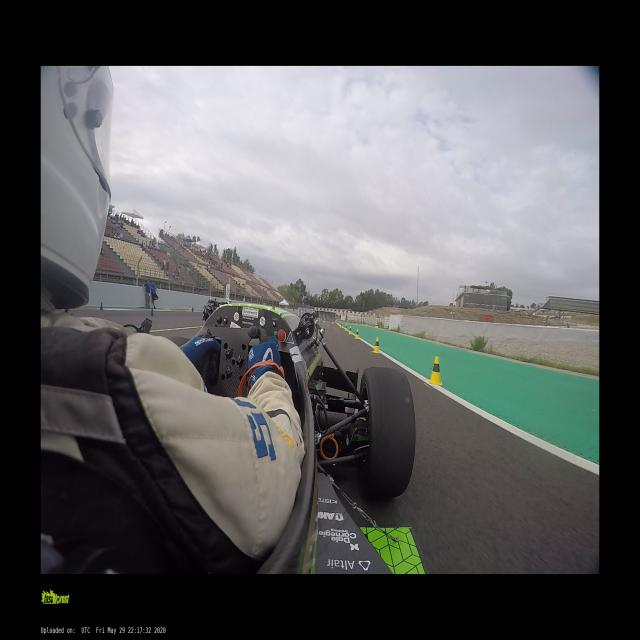blue_cone: (149, 307, 154, 317), (99, 302, 104, 311)
yellow_cone: (426, 357, 443, 386), (372, 337, 379, 354), (354, 329, 359, 339), (348, 326, 352, 334), (344, 325, 347, 330), (338, 322, 341, 326), (337, 321, 339, 325), (340, 323, 342, 327), (332, 320, 334, 324), (323, 318, 325, 322)
